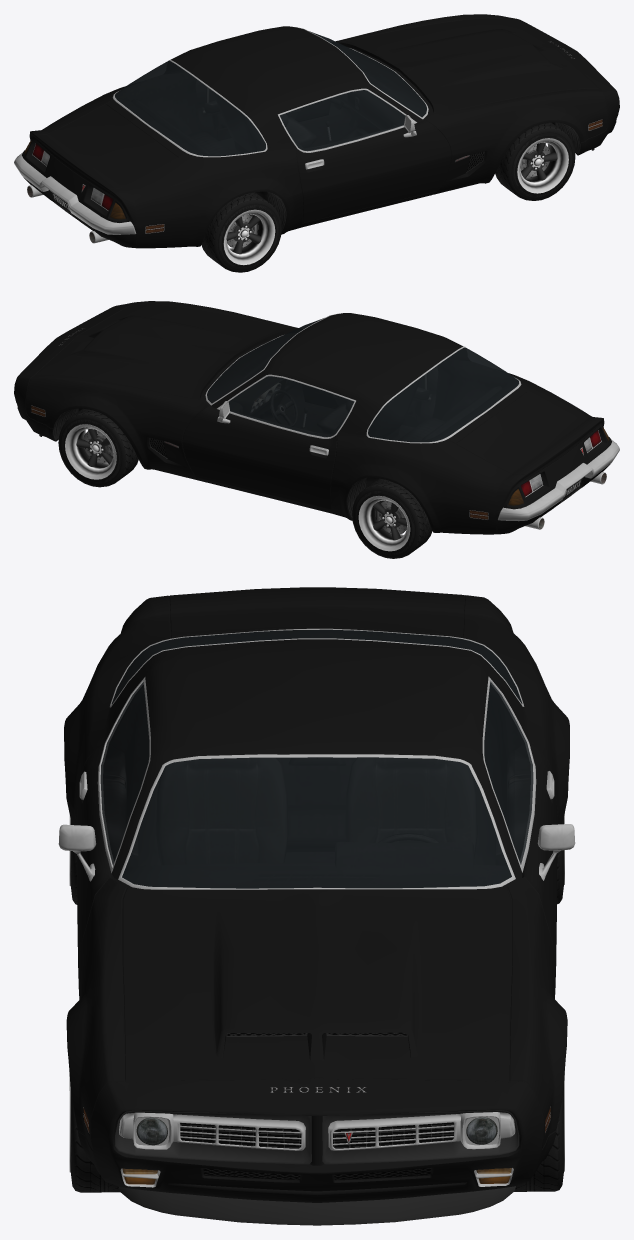
The model's file is car7.glb.
3 views of the same model, one above another, from view 1: azimuth 30°, elevation 25°; view 2: azimuth 150°, elevation 25°; view 3: azimuth 270°, elevation 25° (orthographic). The views are drawn at different scales.
Visible parts, largest first — view 1: Phoenix445_Body_Phoenix445_Bodymat_0, Phoenix445_Interior_UCB_Interiors_2_0, Phoenix445_Hood_Phoenix445_Bodymat_0, Phoenix445_Glass_rear_UCB_Lights_and_Glass_Transperent_0, Phoenix445_Trunkdoor_Phoenix445_Bodymat_0, Phoenix445_Glass_Passenger_UCB_Lights_and_Glass_Transperent_, Phoenix445_WheelStock_RR_RB1c_Tire_1k_0, Phoenix445_WheelStock_FR_RB1c_Tire_1k_0, Phoenix445_Bottom_UCB_BOTTOM_0, Phoenix445_Bumper_rear_UCB_BOTTOM_0, Phoenix445_Windshield_UCB_Lights_and_Glass_Transperent_0, Phoenix445_Taillights_Glass_UCB_Lights_and_Glass_Transperent; view 2: Phoenix445_Body_Phoenix445_Bodymat_0, Phoenix445_Hood_Phoenix445_Bodymat_0, Phoenix445_Interior_UCB_Interiors_2_0, Phoenix445_Glass_rear_UCB_Lights_and_Glass_Transperent_0, Phoenix445_Trunkdoor_Phoenix445_Bodymat_0, Phoenix445_Glass_Driver_UCB_Lights_and_Glass_Transperent_0, Phoenix445_WheelStock_RL_RB1c_Tire_1k_0, Phoenix445_WheelStock_FL_RB1c_Tire_1k_0, Phoenix445_Bottom_UCB_BOTTOM_0, Phoenix445_Bumper_rear_UCB_BOTTOM_0, Phoenix445_Windshield_UCB_Lights_and_Glass_Transperent_0, Phoenix445_Taillights_Glass_UCB_Lights_and_Glass_Transperent (+1 smaller); view 3: Phoenix445_Body_Phoenix445_Bodymat_0, Phoenix445_Hood_Phoenix445_Bodymat_0, Phoenix445_Interior_UCB_Interiors_2_0, Phoenix445_Windshield_UCB_Lights_and_Glass_Transperent_0, Phoenix445_Bottom_UCB_BOTTOM_0, Phoenix445_Trunkdoor_Phoenix445_Bodymat_0, Phoenix445_Glass_Driver_UCB_Lights_and_Glass_Transperent_0, Phoenix445_Glass_Passenger_UCB_Lights_and_Glass_Transperent_, Phoenix445_Glass_rear_UCB_Lights_and_Glass_Transperent_0, Phoenix445_WheelStock_FR_RB1c_Tire_1k_0, Phoenix445_WheelStock_FL_RB1c_Tire_1k_0, Phoenix445_Headlights_glass_UCB_Lights_and_Glass_Transperent (+2 smaller).
Boxes of the visible parts, x1=… form: Phoenix445_Body_Phoenix445_Bodymat_0: x1=22, y1=14, x2=619, y2=248; Phoenix445_Interior_UCB_Interiors_2_0: x1=115, y1=47, x2=426, y2=155; Phoenix445_Hood_Phoenix445_Bodymat_0: x1=339, y1=18, x2=598, y2=112; Phoenix445_Glass_rear_UCB_Lights_and_Glass_Transperent_0: x1=115, y1=61, x2=265, y2=156; Phoenix445_Trunkdoor_Phoenix445_Bodymat_0: x1=35, y1=104, x2=178, y2=194; Phoenix445_Glass_Passenger_UCB_Lights_and_Glass_Transperent_: x1=280, y1=90, x2=405, y2=151; Phoenix445_WheelStock_RR_RB1c_Tire_1k_0: x1=201, y1=192, x2=281, y2=272; Phoenix445_WheelStock_FR_RB1c_Tire_1k_0: x1=495, y1=122, x2=575, y2=200; Phoenix445_Bottom_UCB_BOTTOM_0: x1=27, y1=27, x2=602, y2=243; Phoenix445_Bumper_rear_UCB_BOTTOM_0: x1=14, y1=152, x2=136, y2=234; Phoenix445_Windshield_UCB_Lights_and_Glass_Transperent_0: x1=309, y1=31, x2=426, y2=117; Phoenix445_Taillights_Glass_UCB_Lights_and_Glass_Transperent: x1=24, y1=141, x2=164, y2=233; Phoenix445_Body_Phoenix445_Bodymat_0: x1=14, y1=301, x2=611, y2=534; Phoenix445_Hood_Phoenix445_Bodymat_0: x1=35, y1=305, x2=294, y2=398; Phoenix445_Interior_UCB_Interiors_2_0: x1=207, y1=334, x2=518, y2=441; Phoenix445_Glass_rear_UCB_Lights_and_Glass_Transperent_0: x1=368, y1=347, x2=518, y2=442; Phoenix445_Trunkdoor_Phoenix445_Bodymat_0: x1=456, y1=391, x2=599, y2=480; Phoenix445_Glass_Driver_UCB_Lights_and_Glass_Transperent_0: x1=228, y1=376, x2=354, y2=437; Phoenix445_WheelStock_RL_RB1c_Tire_1k_0: x1=352, y1=478, x2=432, y2=558; Phoenix445_WheelStock_FL_RB1c_Tire_1k_0: x1=58, y1=408, x2=138, y2=487; Phoenix445_Bottom_UCB_BOTTOM_0: x1=31, y1=313, x2=606, y2=529; Phoenix445_Bumper_rear_UCB_BOTTOM_0: x1=498, y1=439, x2=619, y2=521; Phoenix445_Windshield_UCB_Lights_and_Glass_Transperent_0: x1=207, y1=318, x2=323, y2=403; Phoenix445_Taillights_Glass_UCB_Lights_and_Glass_Transperent: x1=469, y1=427, x2=609, y2=519; Phoenix445_Body_Phoenix445_Bodymat_0: x1=64, y1=595, x2=569, y2=1202; Phoenix445_Hood_Phoenix445_Bodymat_0: x1=122, y1=887, x2=511, y2=1081; Phoenix445_Interior_UCB_Interiors_2_0: x1=103, y1=630, x2=530, y2=887; Phoenix445_Windshield_UCB_Lights_and_Glass_Transperent_0: x1=122, y1=757, x2=511, y2=888; Phoenix445_Bottom_UCB_BOTTOM_0: x1=58, y1=628, x2=575, y2=1225; Phoenix445_Trunkdoor_Phoenix445_Bodymat_0: x1=169, y1=587, x2=464, y2=636; Phoenix445_Glass_Driver_UCB_Lights_and_Glass_Transperent_0: x1=484, y1=681, x2=533, y2=864; Phoenix445_Glass_Passenger_UCB_Lights_and_Glass_Transperent_: x1=100, y1=682, x2=149, y2=865; Phoenix445_Glass_rear_UCB_Lights_and_Glass_Transperent_0: x1=111, y1=629, x2=522, y2=704; Phoenix445_WheelStock_FR_RB1c_Tire_1k_0: x1=69, y1=1072, x2=119, y2=1192; Phoenix445_WheelStock_FL_RB1c_Tire_1k_0: x1=514, y1=1071, x2=564, y2=1191; Phoenix445_Headlights_glass_UCB_Lights_and_Glass_Transperent: x1=136, y1=1117, x2=497, y2=1145.
Bounding box in the file's own units: 4.89 × 1.33 × 2.09.
8 materials, 7 textured.
